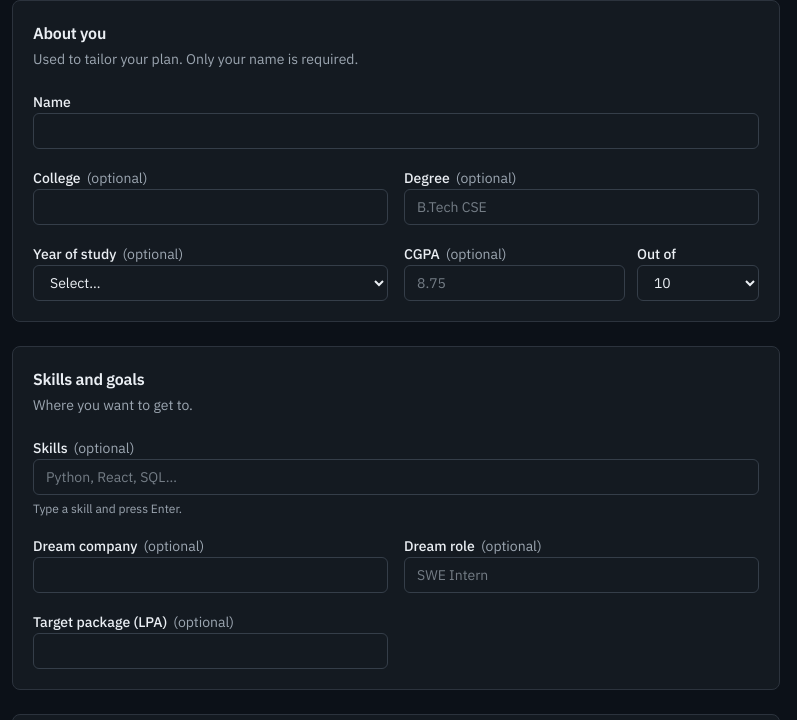
Scenario: ProfileForm › shows server-side field errors next to the right field
Type "Asha" into the field labelled "Name".
click(396, 131); type("Asha")  # box [33,113,759,149]
(page scrolled)
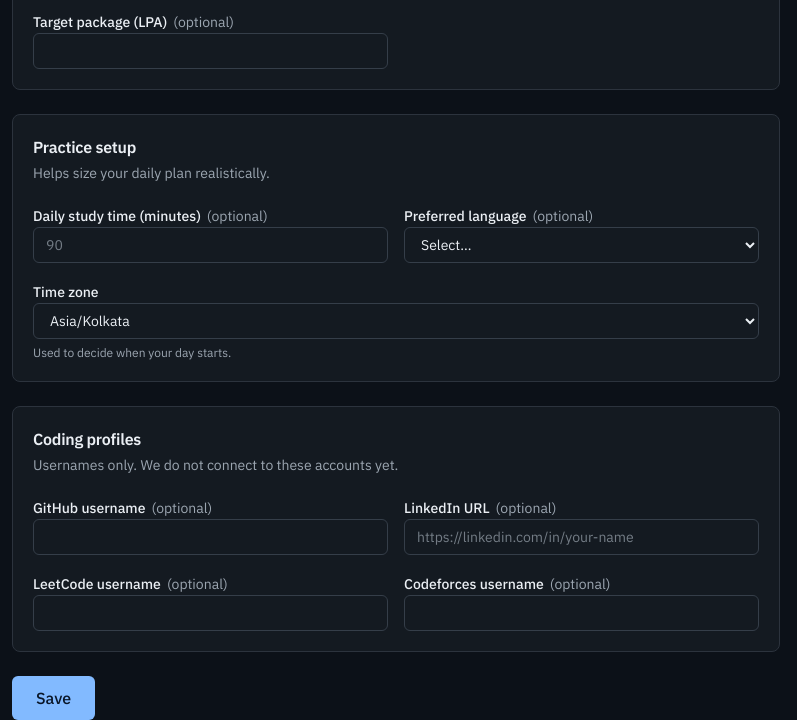
Click the button "Save".
click(54, 698)  # box [12,676,95,719]
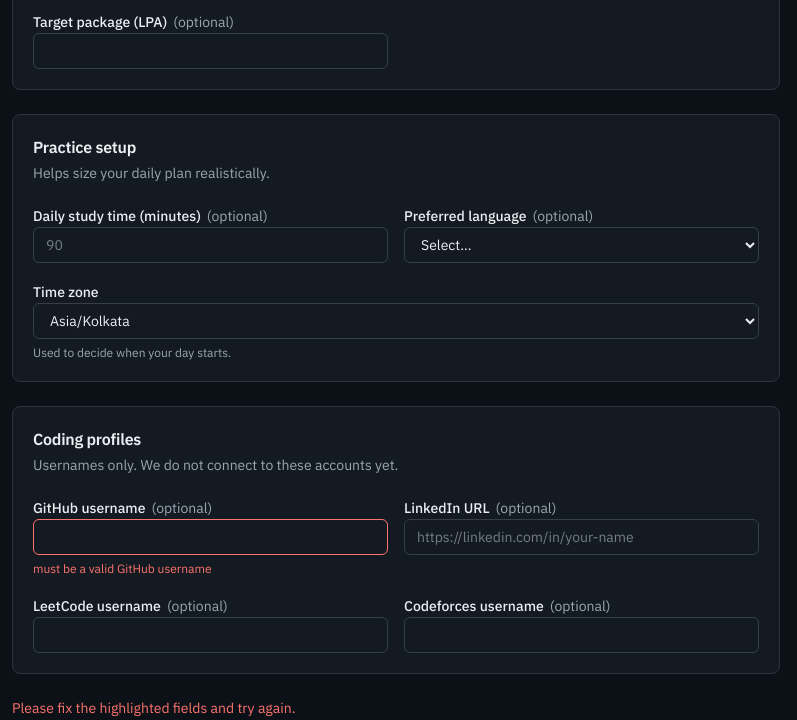
Expected: the text "must be a valid GitHub username" is shown, [33,561,212,576]
